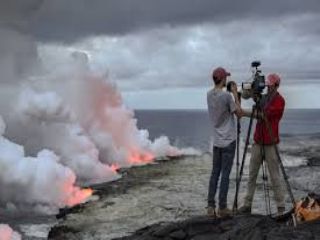smoke: (8, 49, 191, 209)
